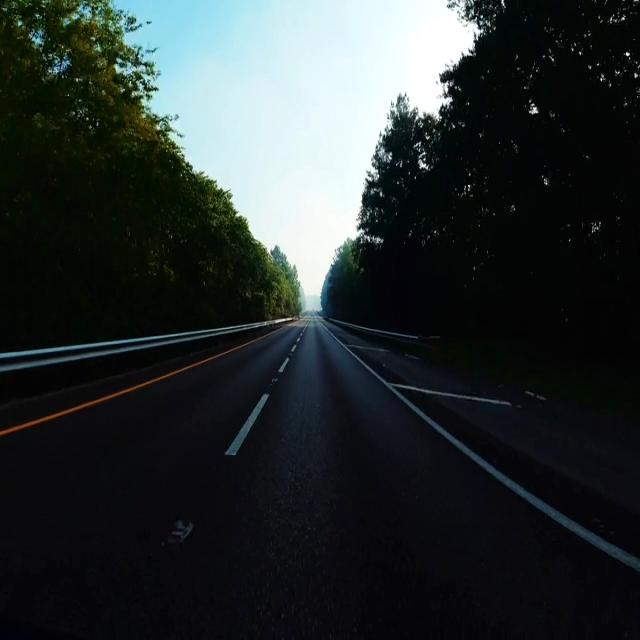lane: (322, 324, 640, 573), (226, 393, 269, 456)
road: (0, 321, 640, 636)
